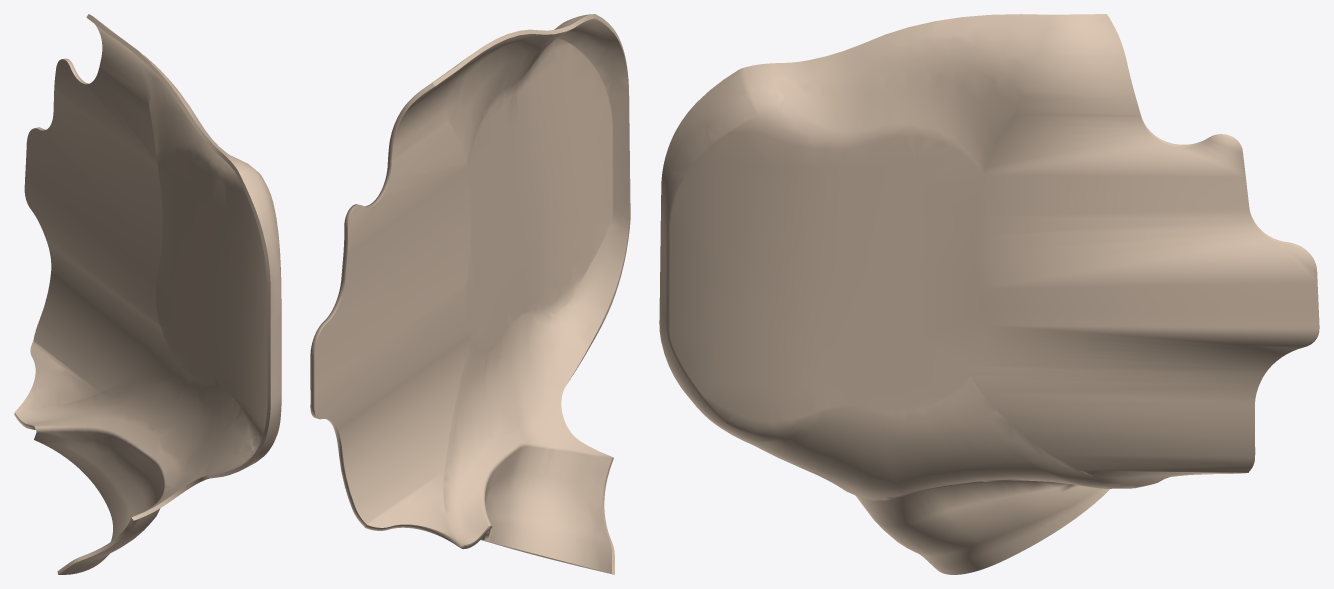
Rendered from l_hand_H_2.obj.
The picture shows the model from 3 angles, left to right: view 1: azimuth 30°, elevation 25°; view 2: azimuth 150°, elevation 25°; view 3: azimuth 270°, elevation 25°; orthographic projection. The views are drawn at different scales.
Bounding box in the file's own units: 37.19 × 127 × 128.
